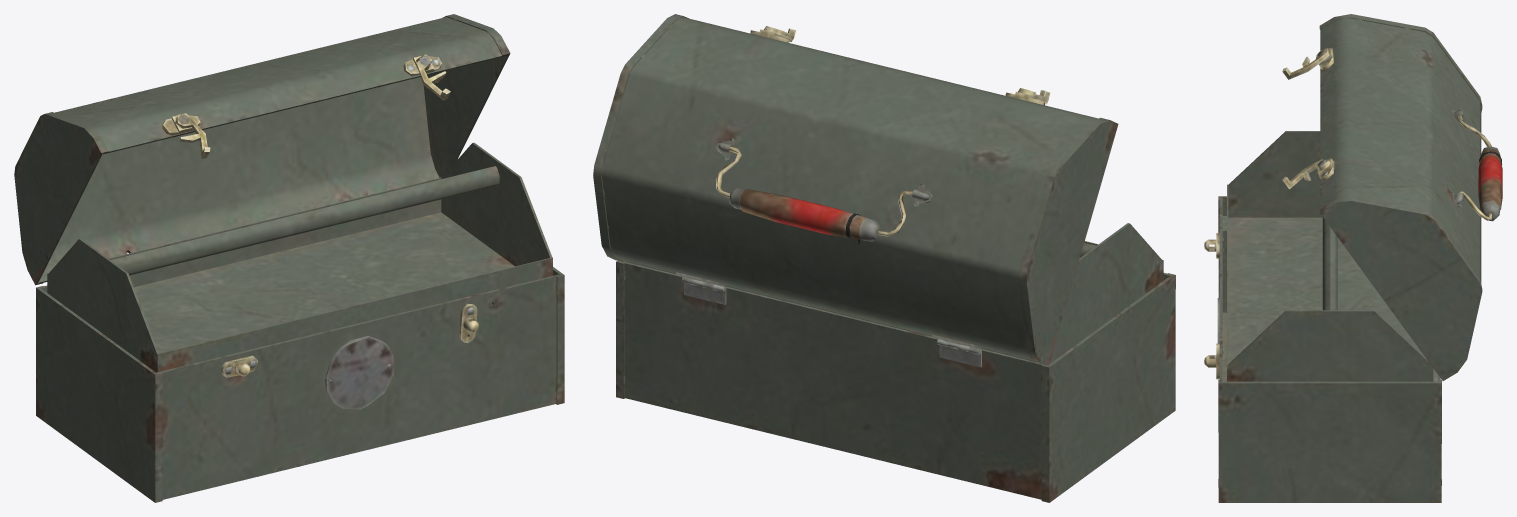
Rendered from metal_toolbox.glb.
The picture shows the model from 3 angles, left to right: view 1: azimuth 30°, elevation 25°; view 2: azimuth 150°, elevation 25°; view 3: azimuth 270°, elevation 25°; orthographic projection. The views are drawn at different scales.
Visible parts, largest first — view 1: metal_toolbox; view 2: metal_toolbox; view 3: metal_toolbox.
Part boxes in pixels (x1,y1,x2,y2): metal_toolbox: (14, 14, 564, 502); metal_toolbox: (593, 14, 1175, 502); metal_toolbox: (1204, 14, 1502, 502).
Bounding box in the file's own units: 0.4 × 0.3044 × 0.2698.
Materials: 1 (1 with a texture image).
